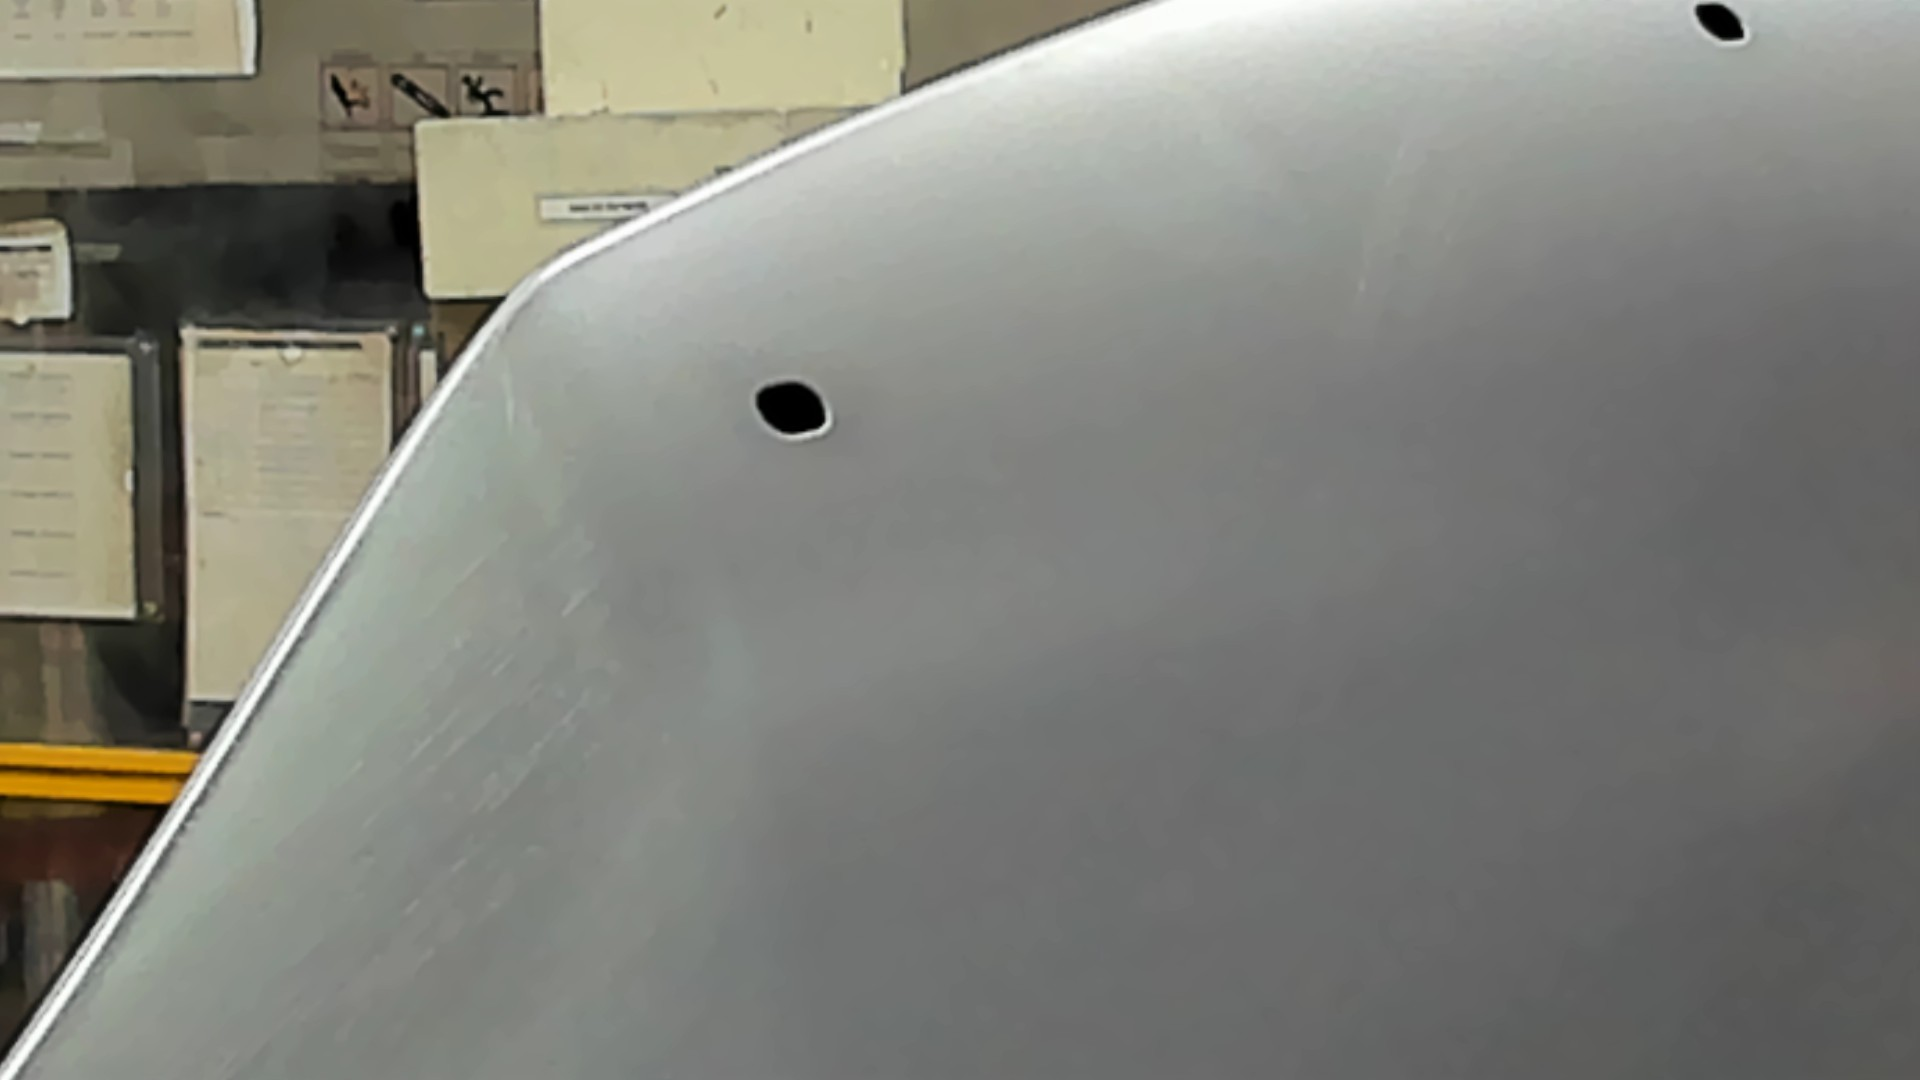amorfo: (746, 377, 836, 447), (1689, 1, 1754, 49)
capo: (957, 123, 1920, 1080)
